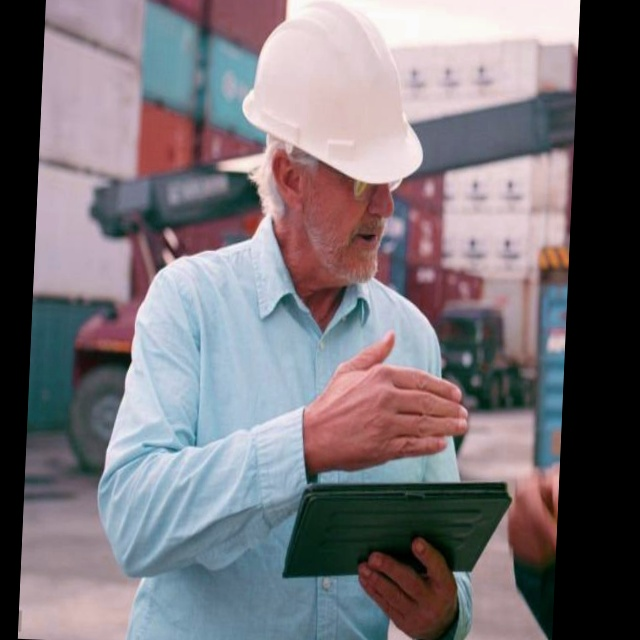Con_Casco: (235, 0, 430, 300)
